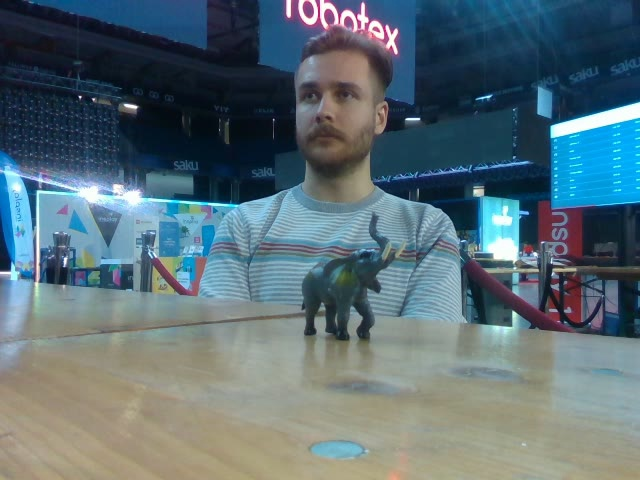toy: (300, 213, 404, 341)
